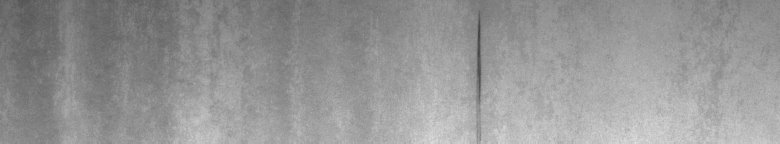hd: (468, 12, 488, 136)
